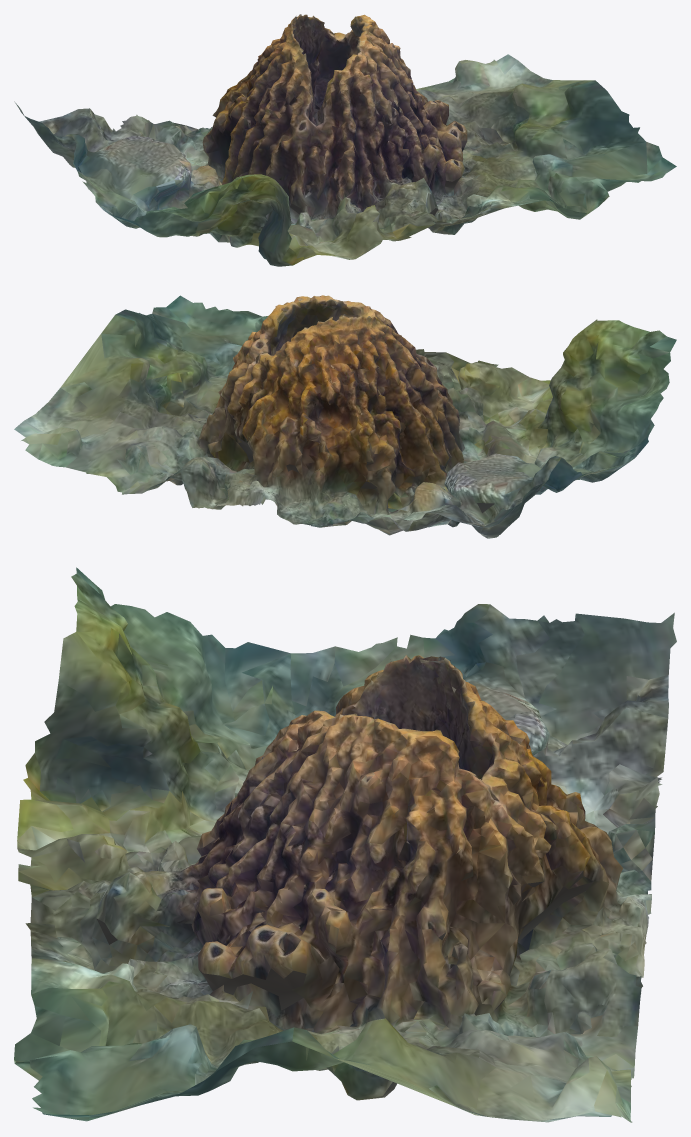
File: barrel_sponge.glb
3 renders of one model, top to bottom at view 1: azimuth 30°, elevation 25°; view 2: azimuth 150°, elevation 25°; view 3: azimuth 270°, elevation 25°, orthographic. The views are drawn at different scales.
Parts seen in each view (by area): view 1: prop; view 2: prop; view 3: prop.
Boxes of the visible parts, x1,y1,x2,y2 form: prop: [14, 14, 676, 266]; prop: [14, 295, 676, 538]; prop: [14, 567, 676, 1122].
Size of the model in its own units: 0.9999 by 0.3186 by 0.6547.
Materials: 1 (1 with a texture image).
